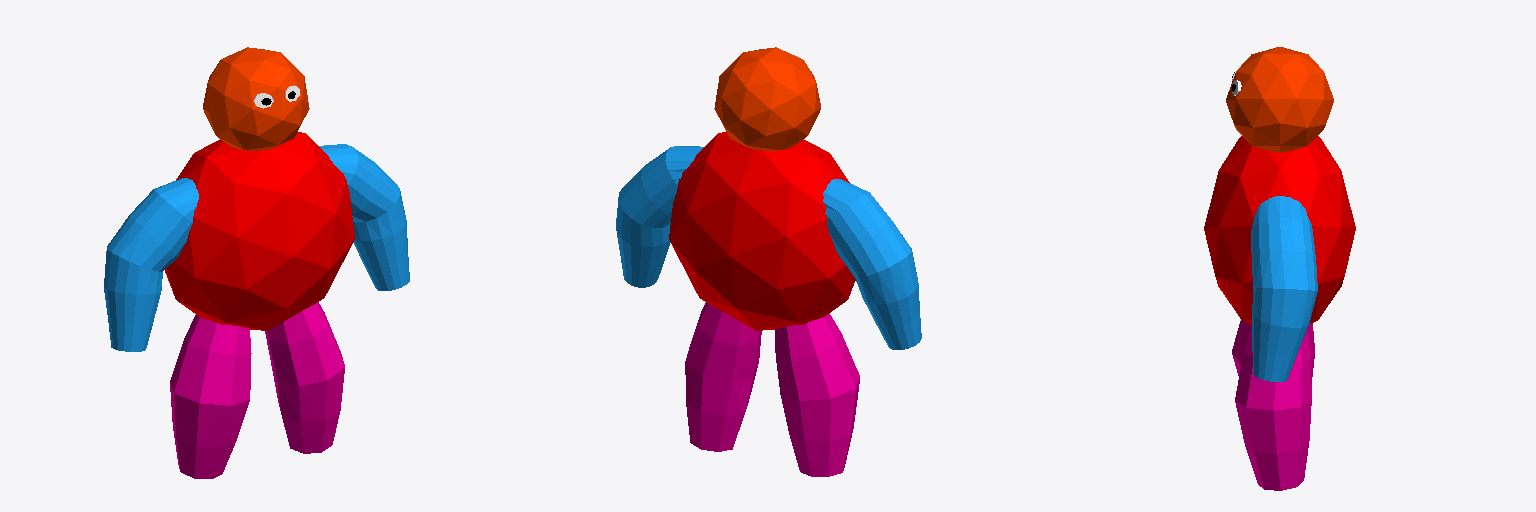
The model's file is bigboi_000001.obj.
The picture shows the model from 3 angles: view 1: azimuth 30°, elevation 25°; view 2: azimuth 150°, elevation 25°; view 3: azimuth 270°, elevation 25°; orthographic projection.
Visible parts, largest first — view 1: Icosphere_bigboi; view 2: Icosphere_bigboi; view 3: Icosphere_bigboi.
Part boxes in pixels (bbox=[...]): Icosphere_bigboi: bbox=[104, 47, 409, 478]; Icosphere_bigboi: bbox=[616, 47, 921, 476]; Icosphere_bigboi: bbox=[1204, 47, 1355, 490].
Size of the model in its own units: 6.28 by 8.22 by 2.8.